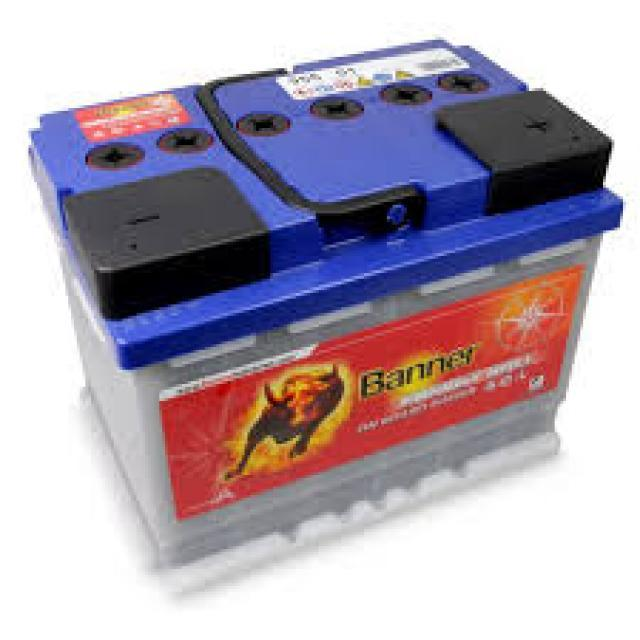battery: (29, 40, 621, 599)
